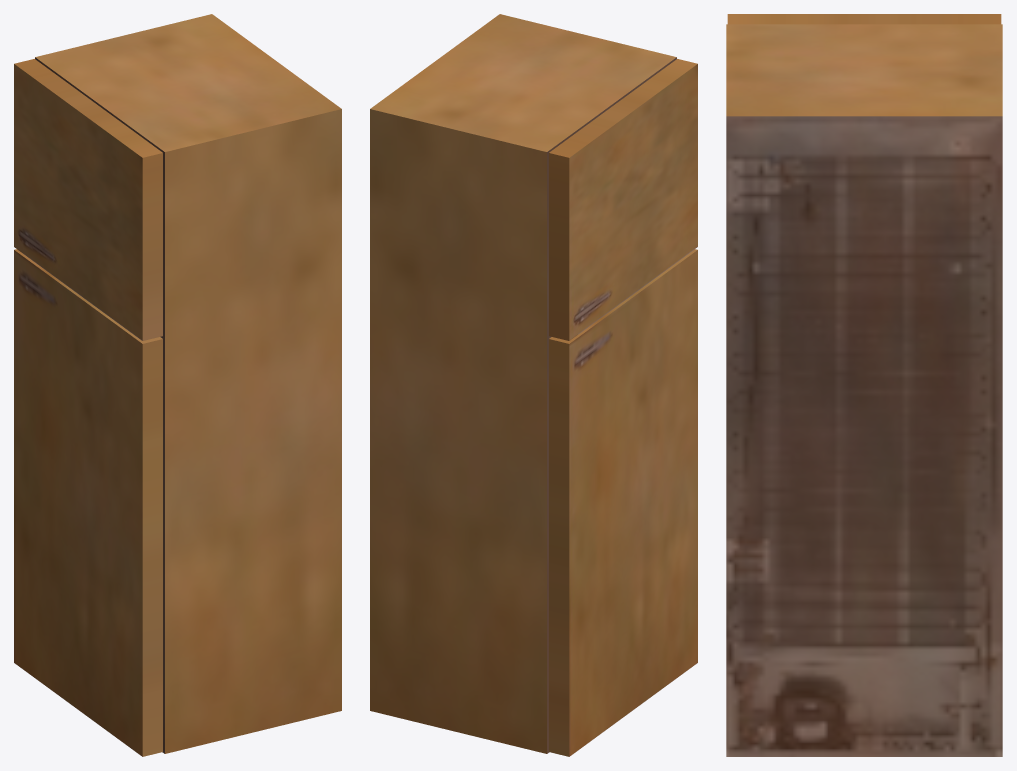
The model's file is fridge.fbx.
The picture shows the model from 3 angles, left to right: view 1: azimuth 30°, elevation 25°; view 2: azimuth 150°, elevation 25°; view 3: azimuth 270°, elevation 25°; orthographic projection. The views are drawn at different scales.
Parts seen in each view (by area): view 1: Refrigerator, Refrigerator_P_01, Refrigerator_P; view 2: Refrigerator, Refrigerator_P_01, Refrigerator_P; view 3: Refrigerator, Refrigerator_P.
Part boxes in pixels (<box>): Refrigerator: <box>35,14,341,753</box>; Refrigerator_P_01: <box>14,249,162,756</box>; Refrigerator_P: <box>14,59,162,340</box>; Refrigerator: <box>370,14,676,753</box>; Refrigerator_P_01: <box>549,249,697,756</box>; Refrigerator_P: <box>549,59,697,340</box>; Refrigerator: <box>726,24,1002,756</box>; Refrigerator_P: <box>727,14,1001,24</box>.
Bounding box in the file's own units: 73.08 × 212 × 82.69.
